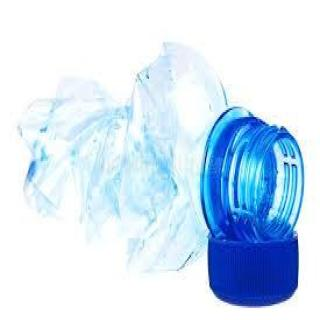Plastic-bottle: (15, 40, 308, 313)
